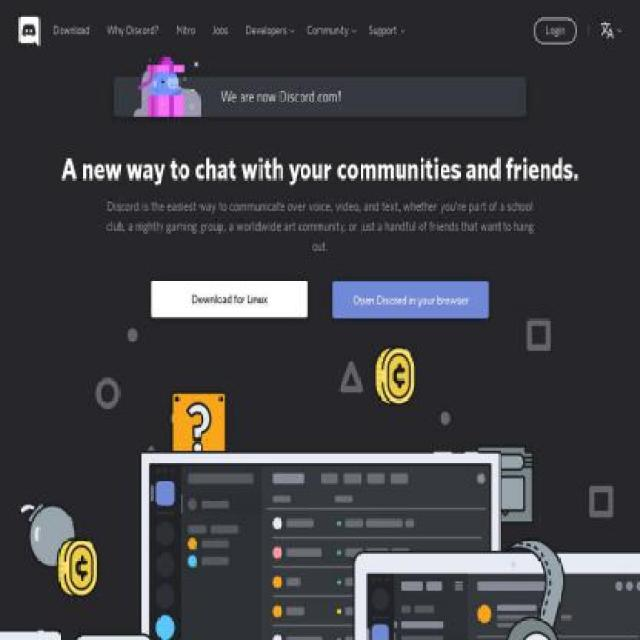button: (333, 280, 489, 318), (534, 17, 577, 45), (18, 17, 40, 46)
